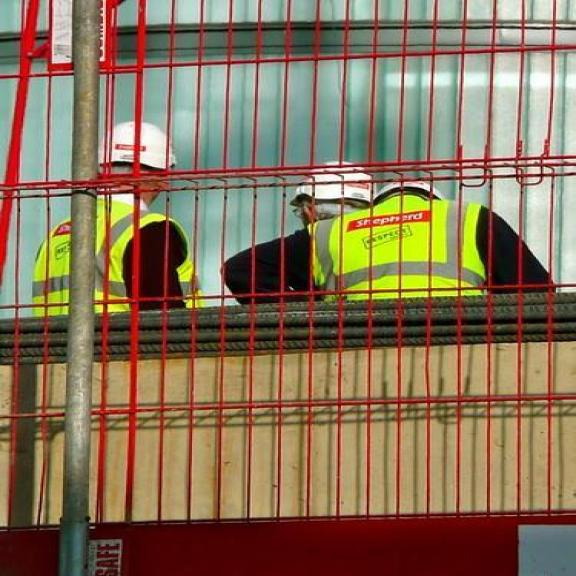safety_vest: (306, 189, 490, 304), (33, 197, 208, 316)
